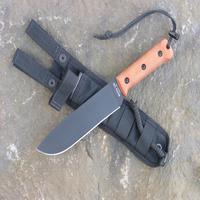knife: (33, 29, 174, 161)
